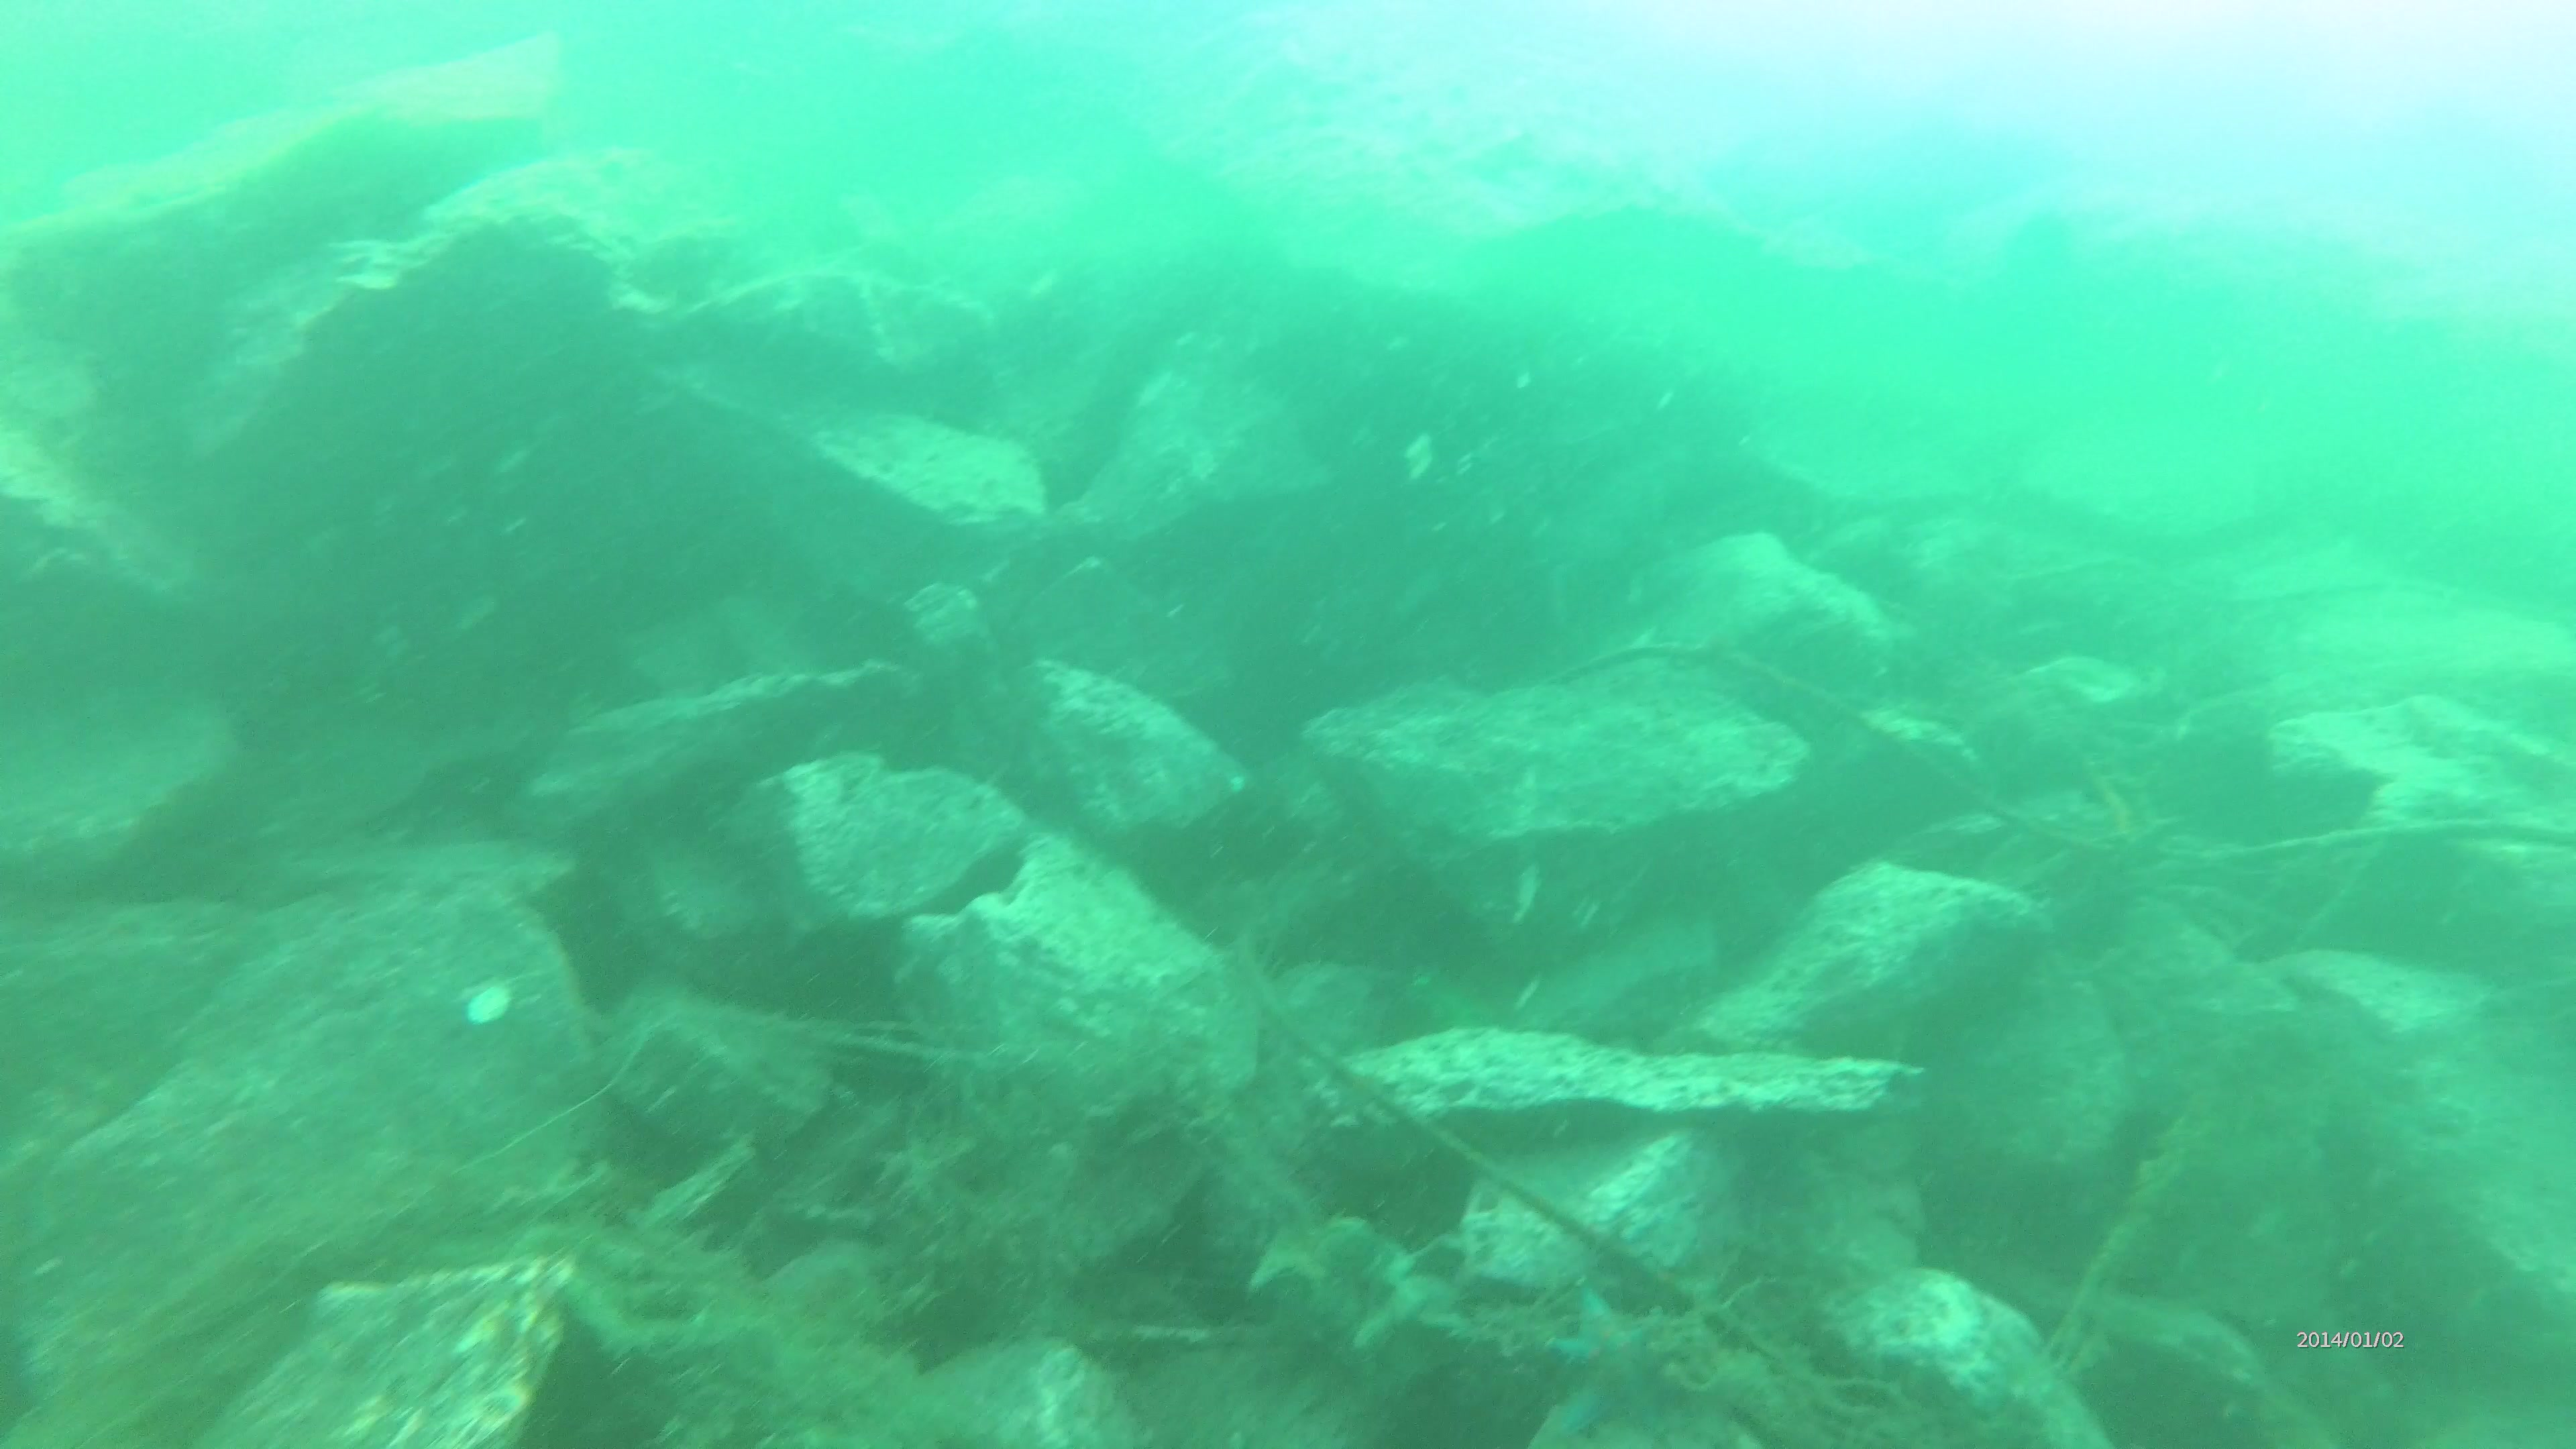starfish: (1518, 1290, 1700, 1445)
